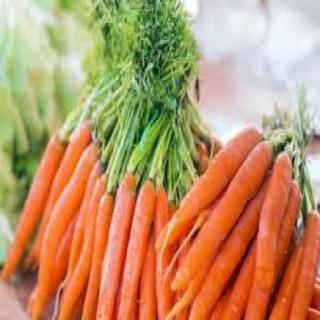Wortel: (170, 141, 276, 294), (96, 161, 139, 319), (115, 164, 158, 320), (254, 151, 297, 288)
